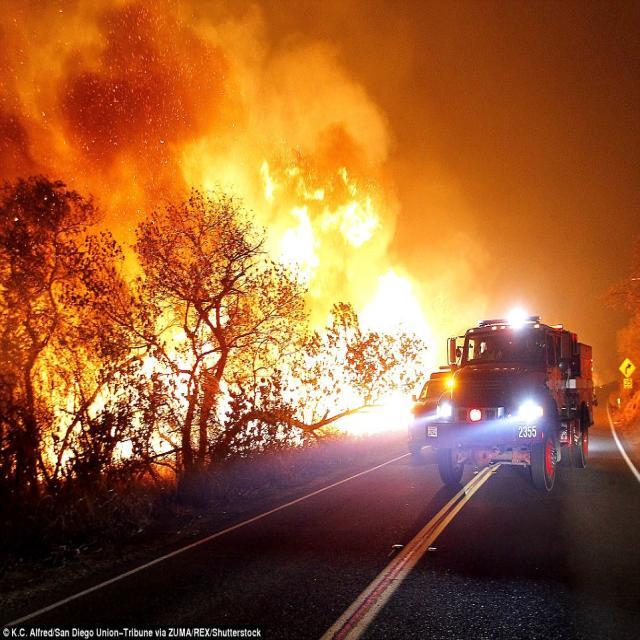Smoke: (204, 0, 433, 246), (26, 0, 238, 230), (392, 136, 502, 344)
